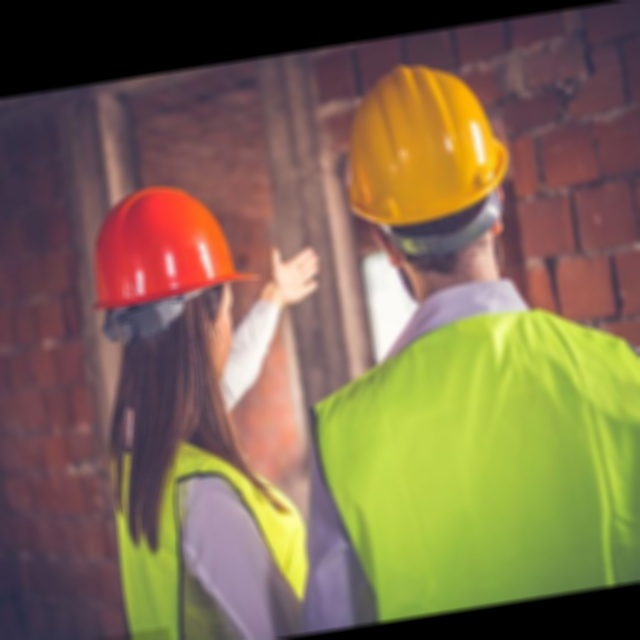Con_Casco: (327, 49, 525, 282), (75, 174, 273, 388)
Con_Chaleco: (292, 299, 640, 630), (100, 412, 323, 640)
